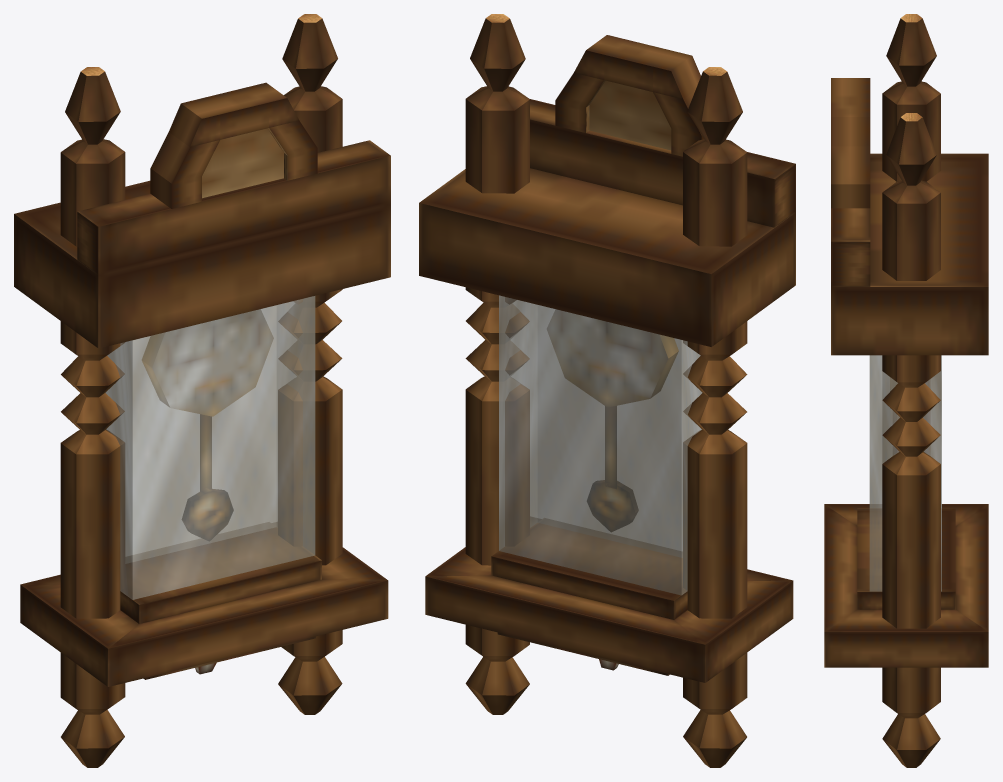
File: Inside_Poly_Clock_01.obj
The picture shows the model from 3 angles, left to right: view 1: azimuth 30°, elevation 25°; view 2: azimuth 150°, elevation 25°; view 3: azimuth 270°, elevation 25°; orthographic projection. The views are drawn at different scales.
Parts seen in each view (by area): view 1: Cube.001, Cube.002; view 2: Cube.001, Cube.002; view 3: Cube.001, Cube.002.
Boxes of the visible parts, x1,y1,x2,y2 form: Cube.001: (14,14,390,767); Cube.002: (105,296,315,599); Cube.001: (419,14,795,767); Cube.002: (499,295,702,595); Cube.001: (824,14,988,767); Cube.002: (869,355,941,591).
Size of the model in its own units: 0.48 by 1.09 by 0.25.
Materials: 2 (2 with a texture image).
